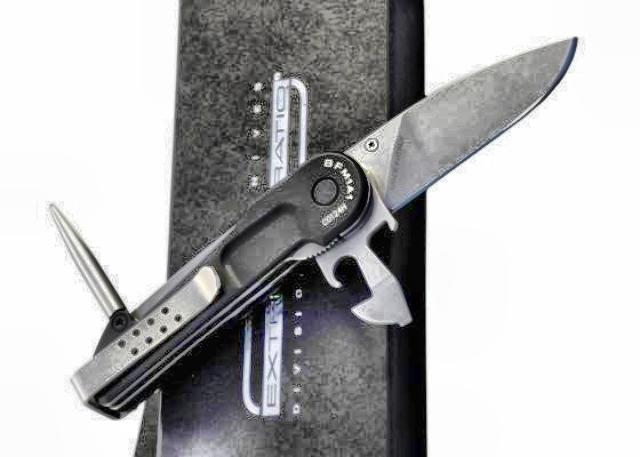knife: (338, 30, 584, 236)
